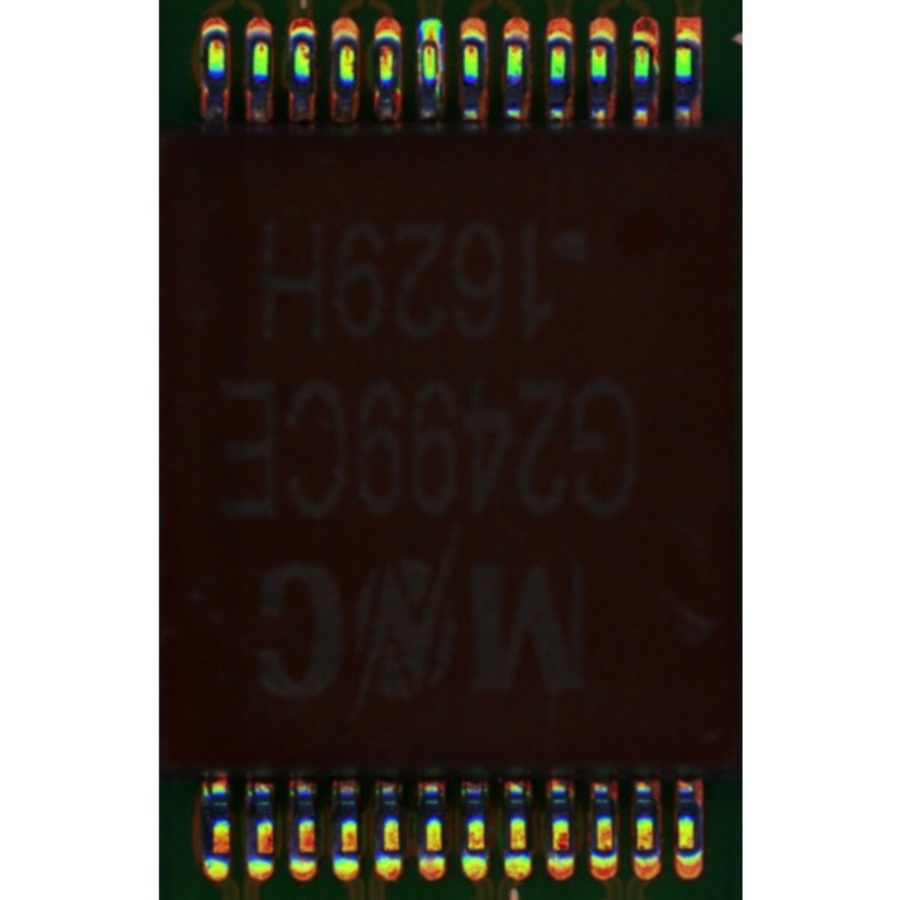Bad_podu: (423, 34, 436, 52)
Bad_qiaojiao: (436, 47, 443, 98), (416, 46, 422, 92)
